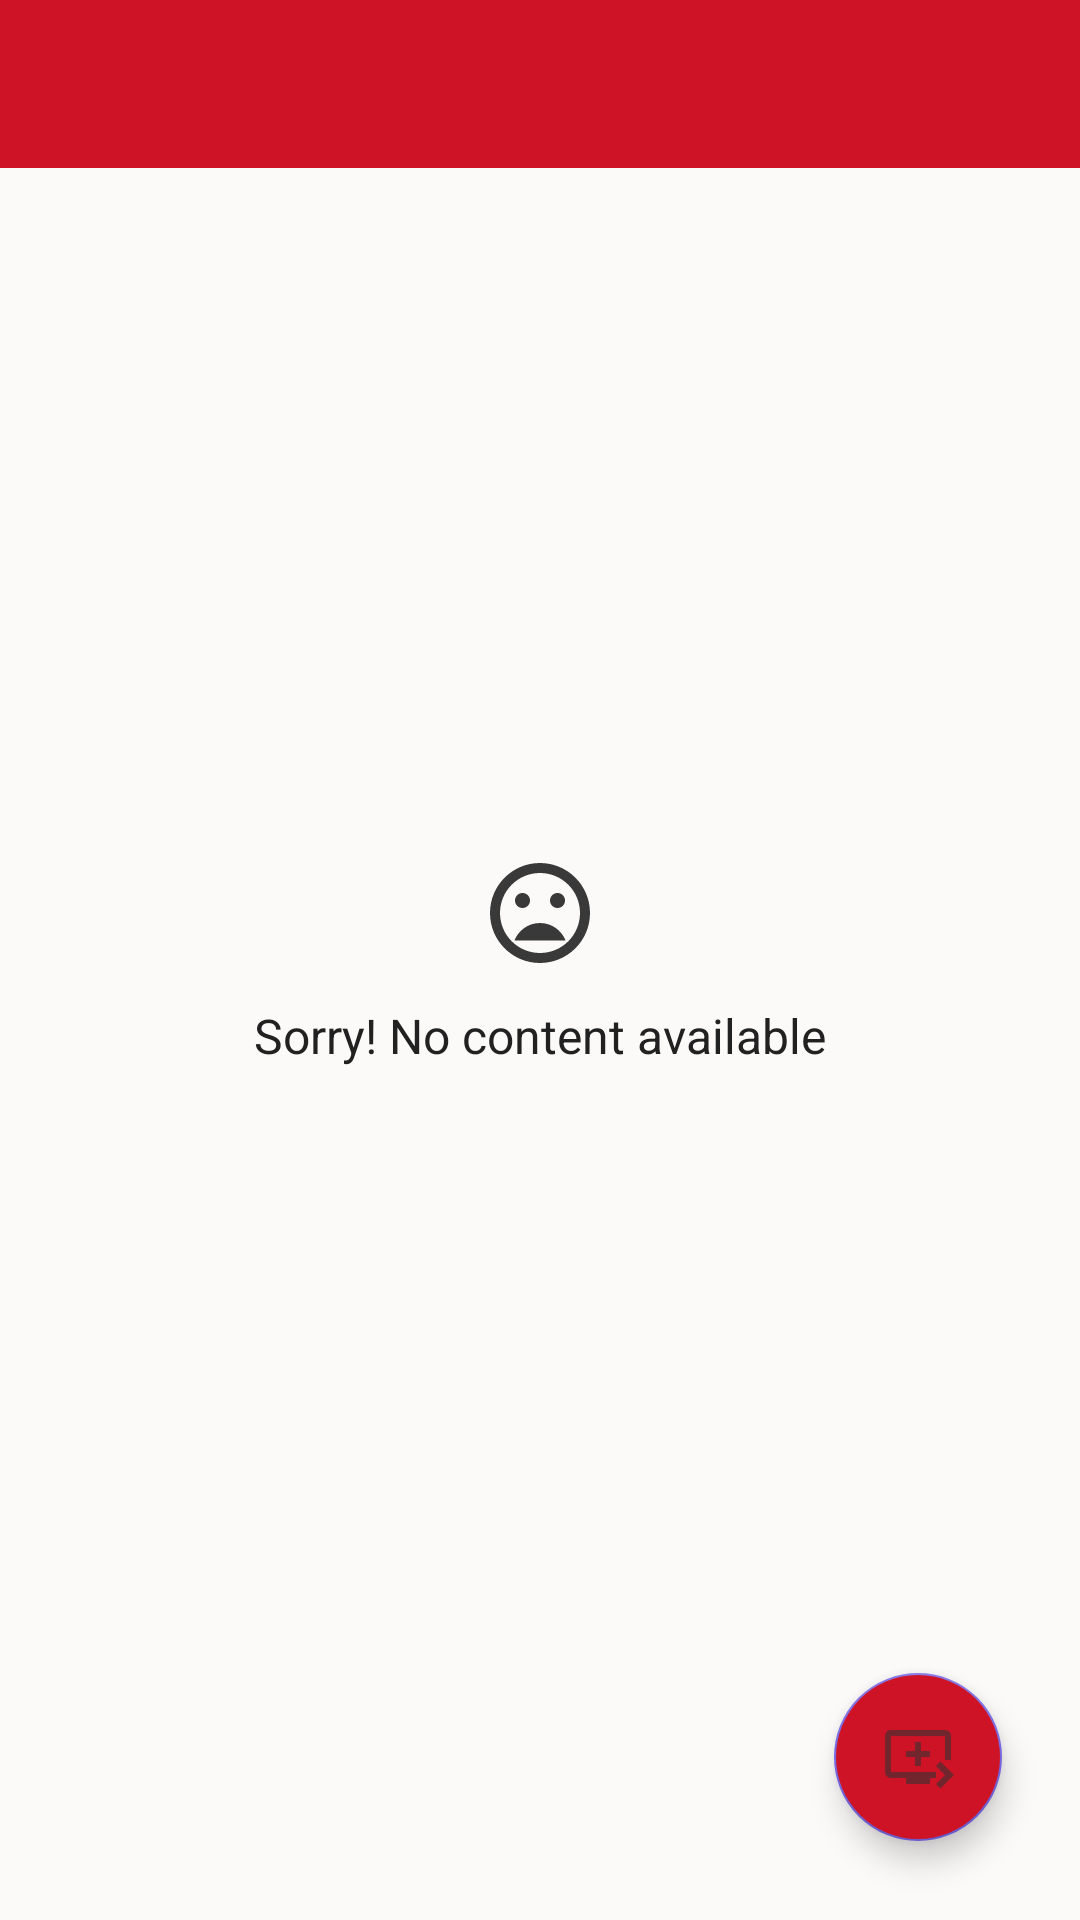

Named icons in this screenshot (1080px x 1920px) and their centers, (x=x, y=y):
mood bad: (x=540, y=913)
queue: (x=918, y=1757)
